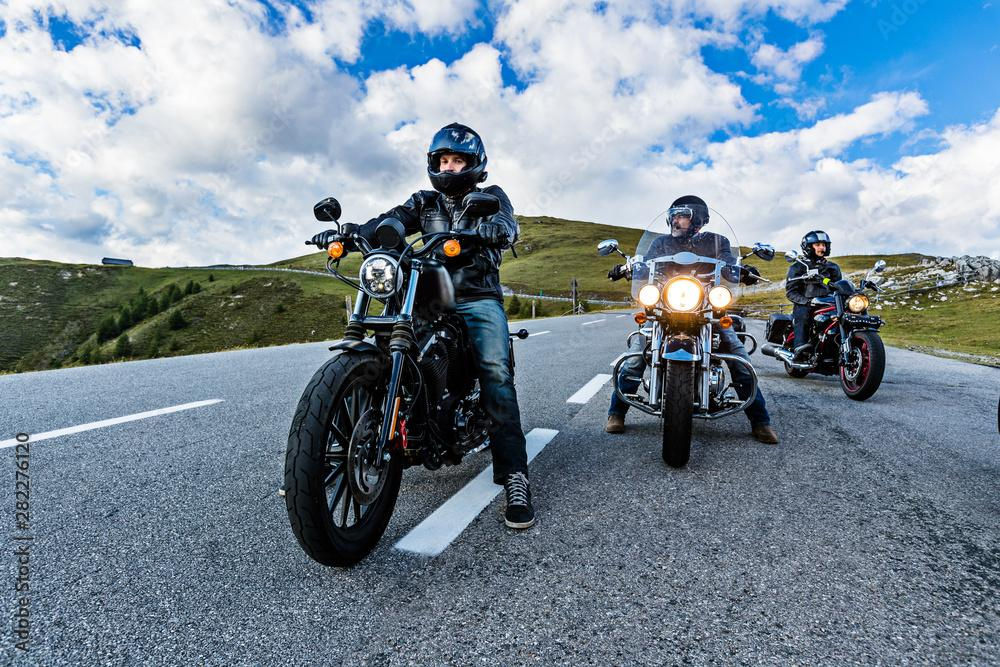helmet: (426, 121, 489, 197), (665, 194, 710, 240), (800, 229, 832, 262)
